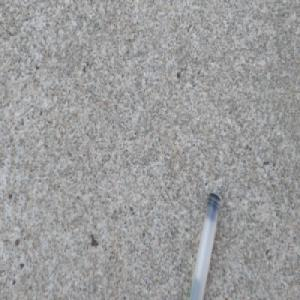Pen: (188, 190, 222, 300)
